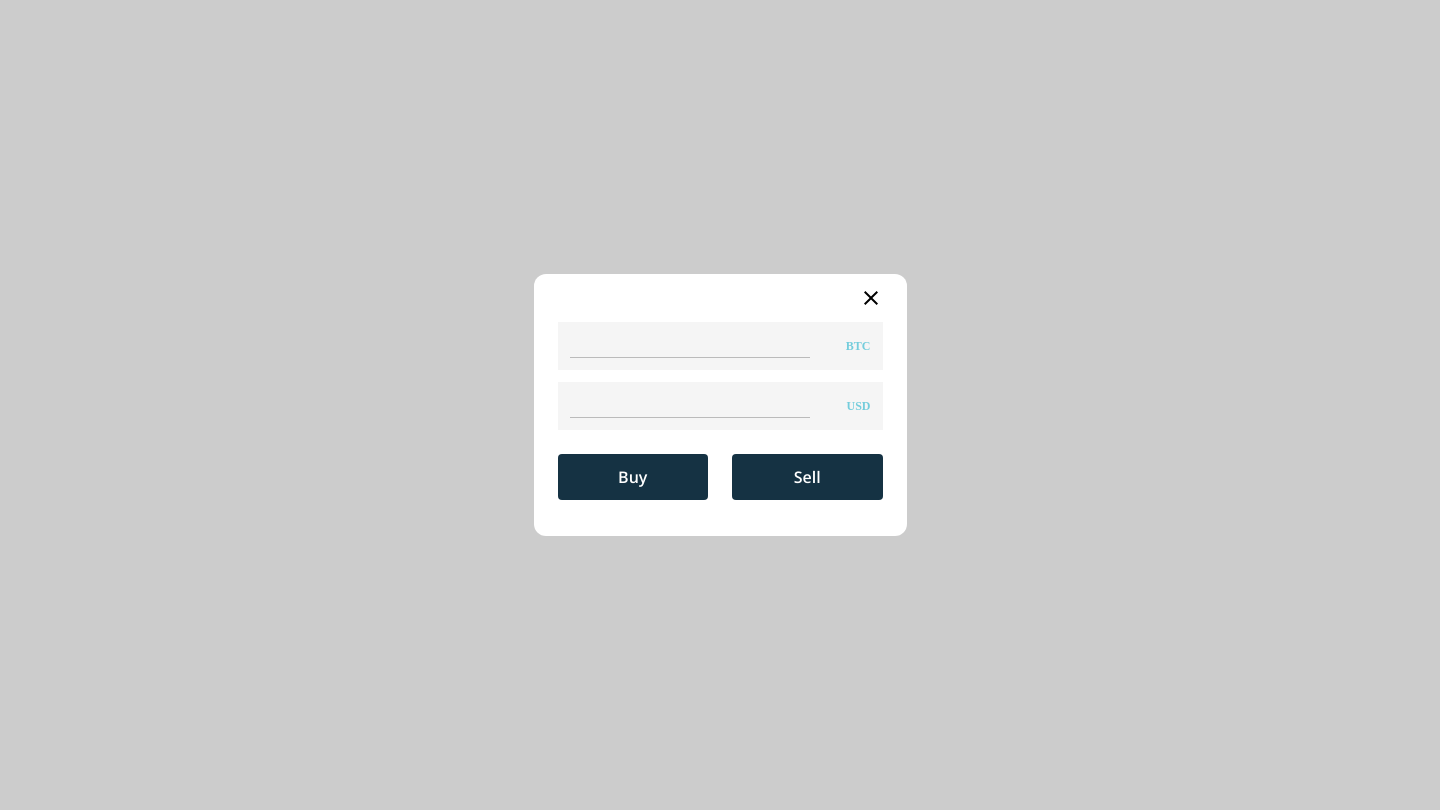
Test: TradeModal › Display error when USD input is bigger than balance and user tries to buy
In the field labelled "USD": (690, 406) top-left (570, 394), bottom-right (810, 418), type "225.15"
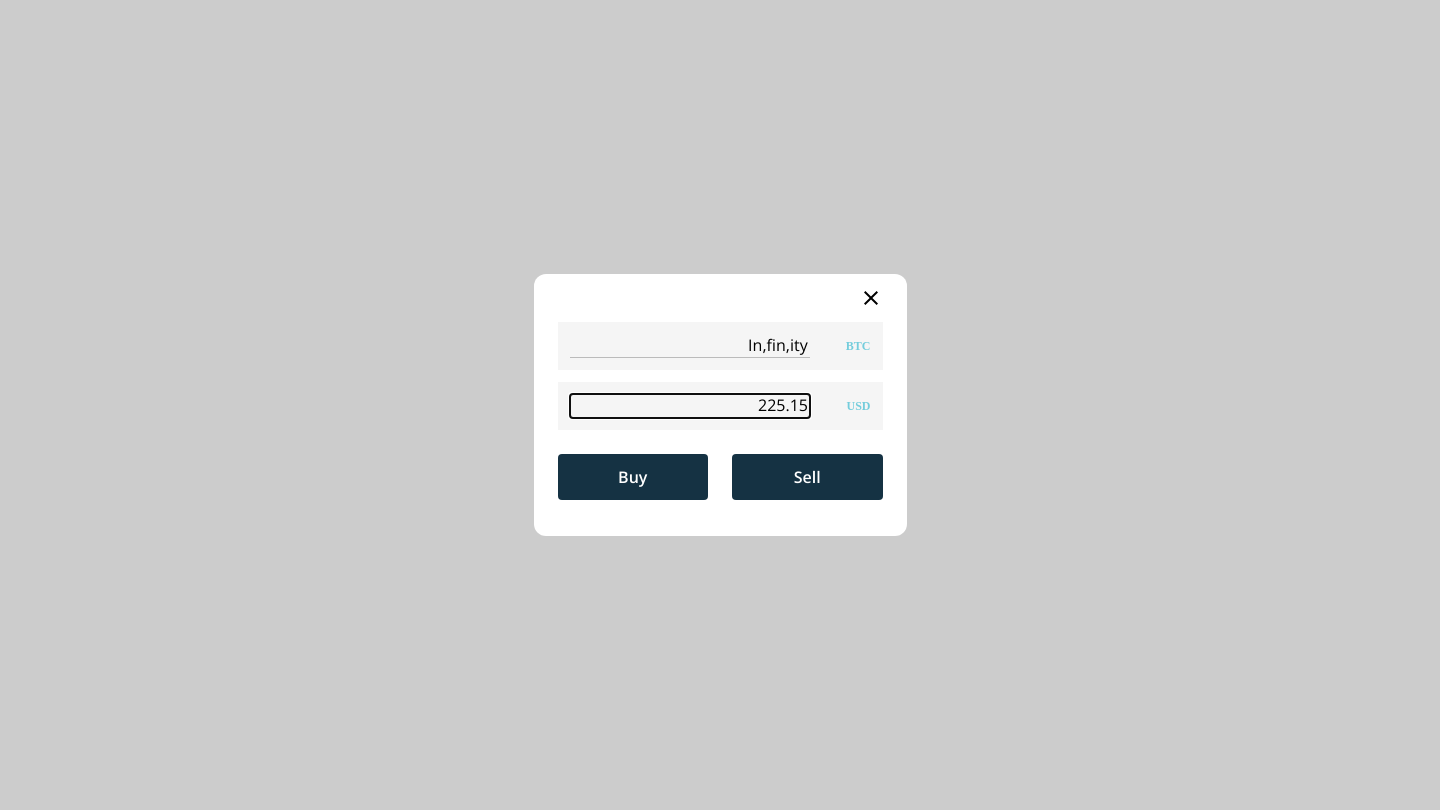
Click the button "Buy": (633, 477) top-left (558, 454), bottom-right (708, 500)
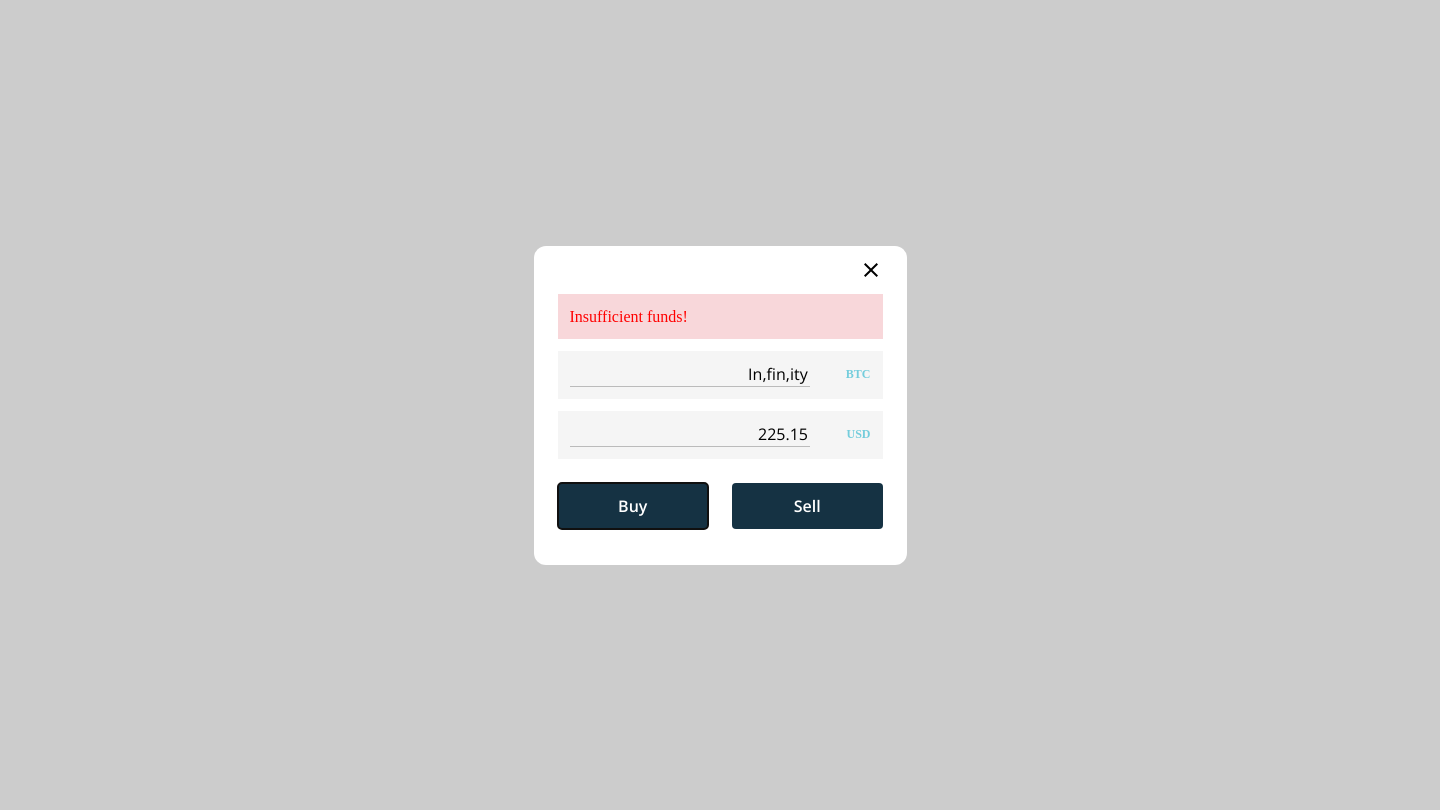
Result: the text "Insufficient funds!" is shown at top-left (558, 294), bottom-right (882, 338)
